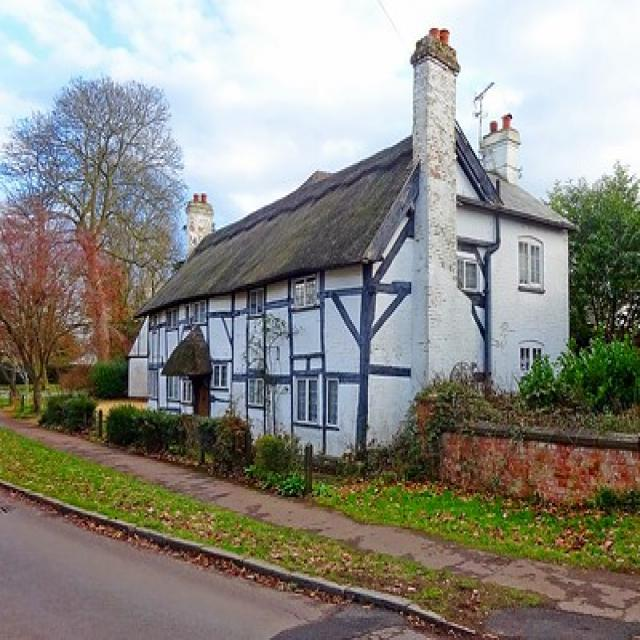Normal_building: (125, 23, 582, 472)
